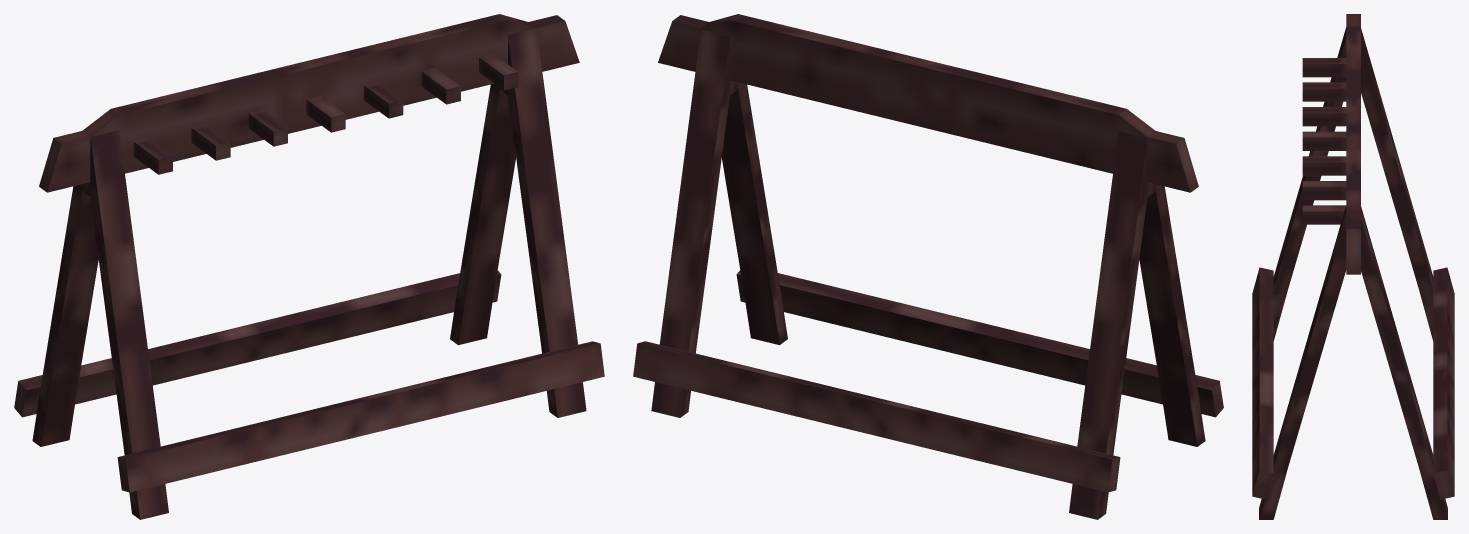
File: WeaponStand.fbx
3 views of the same model, side by side, from view 1: azimuth 30°, elevation 25°; view 2: azimuth 150°, elevation 25°; view 3: azimuth 270°, elevation 25° (orthographic). The views are drawn at different scales.
Parts seen in each view (by area): view 1: Cube.010; view 2: Cube.010; view 3: Cube.010.
Boxes of the visible parts, left/top/right/bottom form: Cube.010: left=14, top=14, right=604, bottom=519; Cube.010: left=633, top=14, right=1223, bottom=519; Cube.010: left=1252, top=14, right=1454, bottom=519.
Size of the model in its own units: 2.31 by 0.8697 by 1.5.
